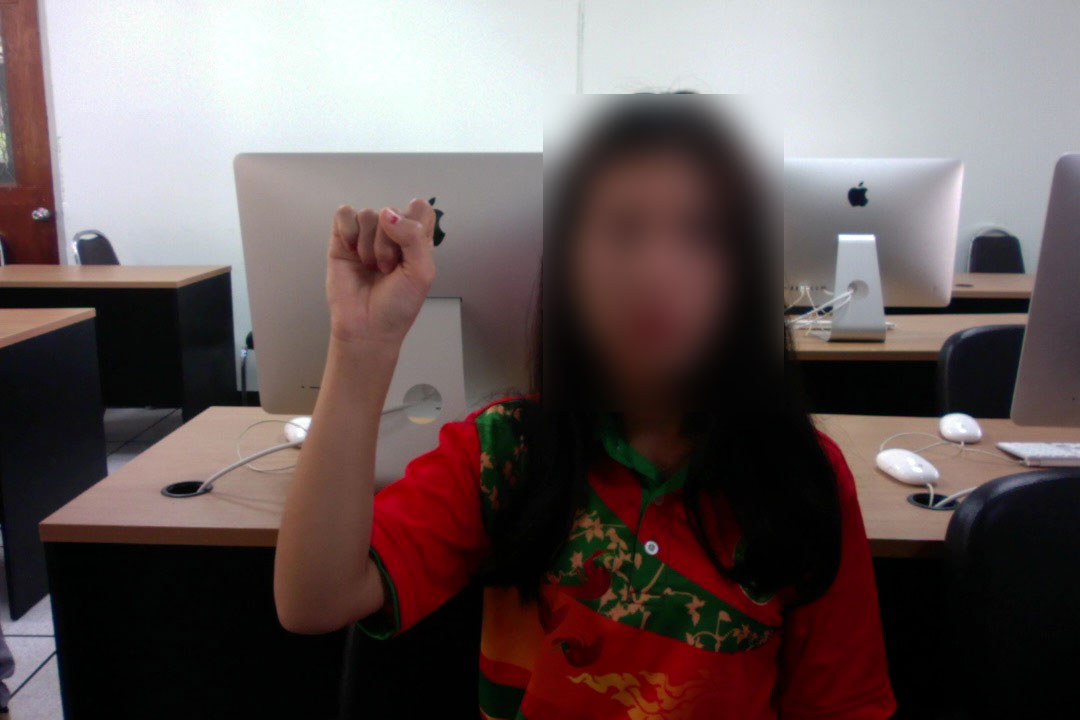sor: (319, 189, 445, 369)
